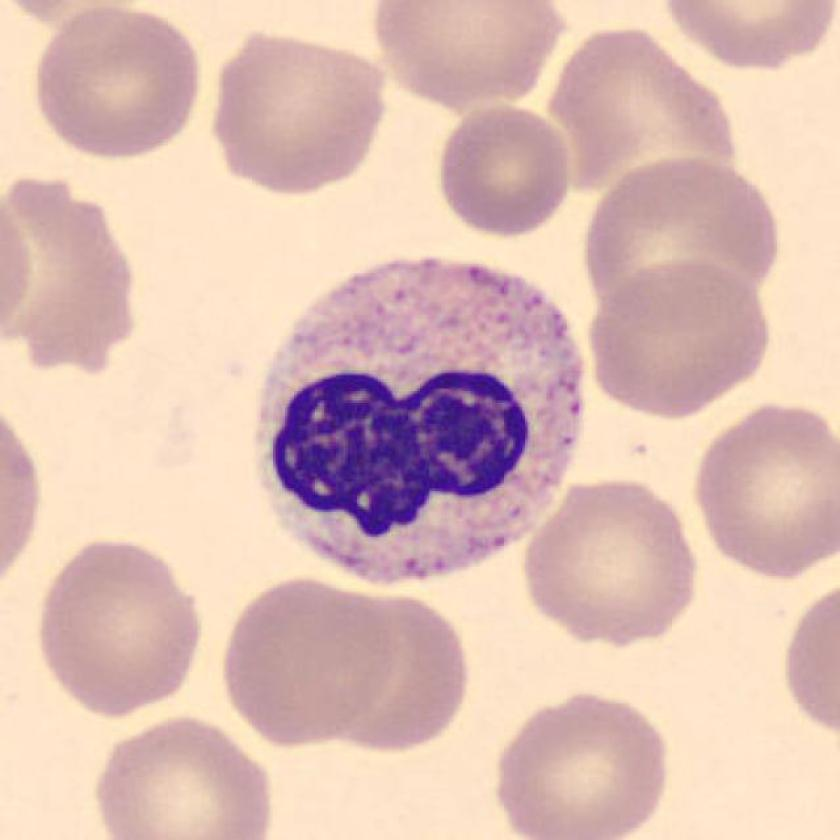neutrophil: (256, 260, 577, 579)
